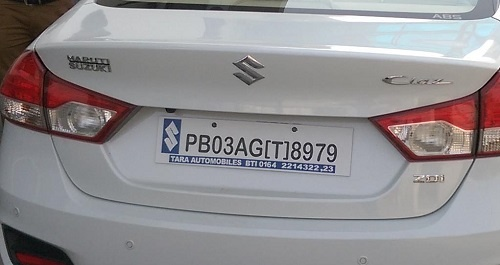number_plate: (159, 115, 353, 173)
